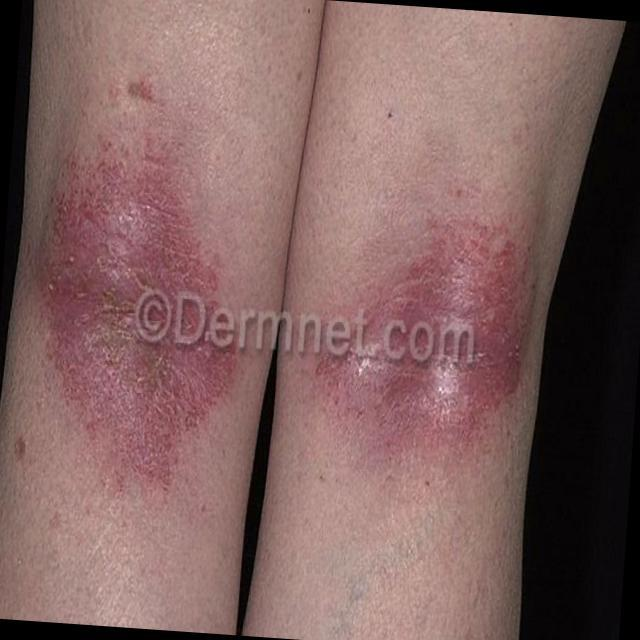Eczema: (38, 93, 246, 480), (318, 189, 536, 452)
